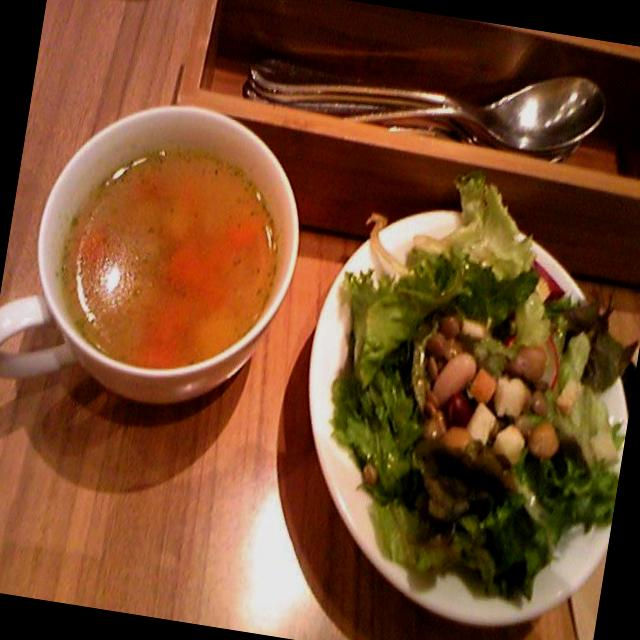Green Salad: (341, 224, 628, 570)
